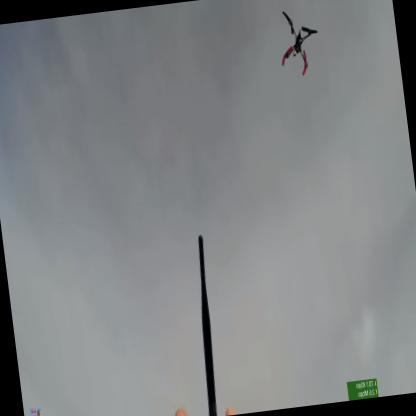drone: (265, 4, 327, 83)
